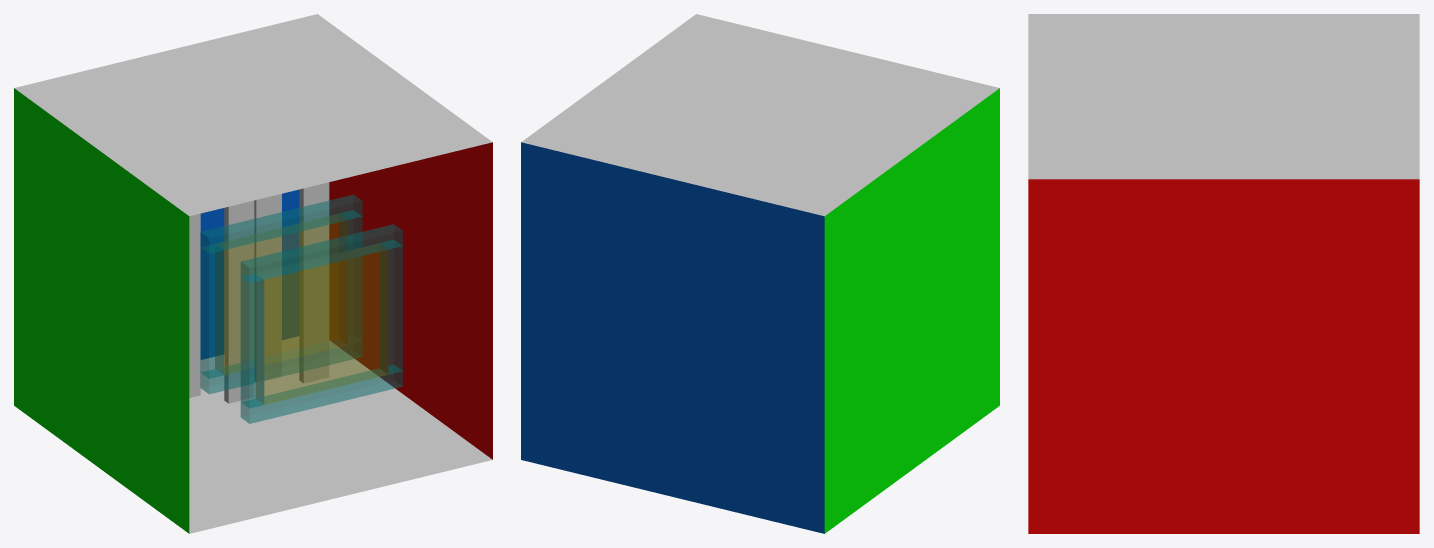
The model's file is transparent_border_2.obj.
3 renders of one model, left to right at view 1: azimuth 30°, elevation 25°; view 2: azimuth 150°, elevation 25°; view 3: azimuth 270°, elevation 25°, orthographic. The views are drawn at different scales.
Parts seen in each view (by area): view 1: Plane.001, Plane.004, Plane.002, Plane, Cube.001_Cube.004, Cube.001_Cube.009, Plane.003, Cube.005_Cube.007, Cube.002_Cube.004, Cube.006_Cube.008, Cube.001_Cube.005, Cube.001_Cube.003 (+8 smaller); view 2: Plane.003, Plane.001, Plane.004, Plane.005_Plane.006; view 3: Plane.002, Plane.004, Plane.005_Plane.006.
Boxes of the visible parts, left/top/right/bottom form: Plane.001: left=14, top=88, right=189, bottom=533; Plane.004: left=14, top=14, right=492, bottom=216; Plane.002: left=329, top=142, right=492, bottom=459; Plane: left=189, top=336, right=492, bottom=533; Cube.001_Cube.004: left=256, top=244, right=387, bottom=404; Cube.001_Cube.009: left=215, top=214, right=347, bottom=374; Plane.003: left=200, top=189, right=299, bottom=359; Cube.005_Cube.007: left=224, top=200, right=254, bottom=403; Cube.002_Cube.004: left=299, top=182, right=329, bottom=383; Cube.006_Cube.008: left=254, top=194, right=281, bottom=381; Cube.001_Cube.005: left=240, top=224, right=402, bottom=283; Cube.001_Cube.003: left=200, top=194, right=362, bottom=253; Plane.003: left=521, top=142, right=824, bottom=533; Plane.001: left=824, top=88, right=999, bottom=533; Plane.004: left=521, top=14, right=999, bottom=216; Plane.005_Plane.006: left=691, top=93, right=806, bottom=141; Plane.002: left=1028, top=179, right=1419, bottom=533; Plane.004: left=1028, top=14, right=1419, bottom=179; Plane.005_Plane.006: left=1188, top=80, right=1282, bottom=119.
Size of the model in its own units: 8.28 by 8.28 by 8.28.
